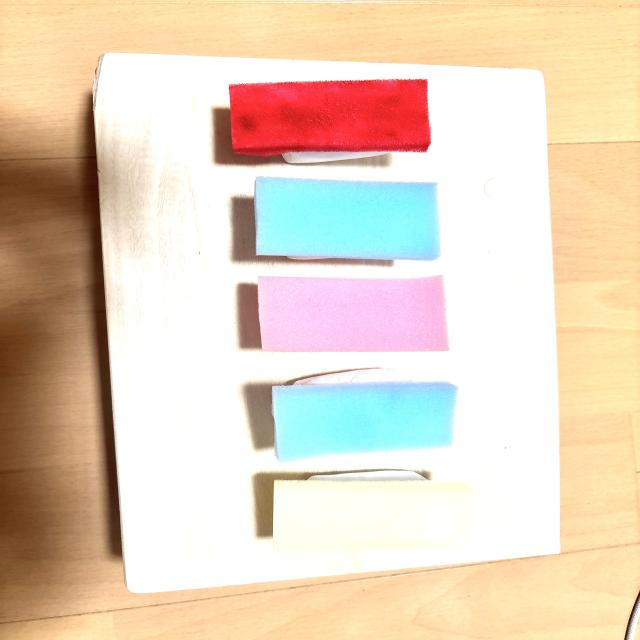ika: (272, 368, 457, 462), (254, 177, 440, 260)
maguro: (230, 79, 430, 163)
tai: (258, 276, 449, 352)
tamago: (273, 470, 473, 552)
